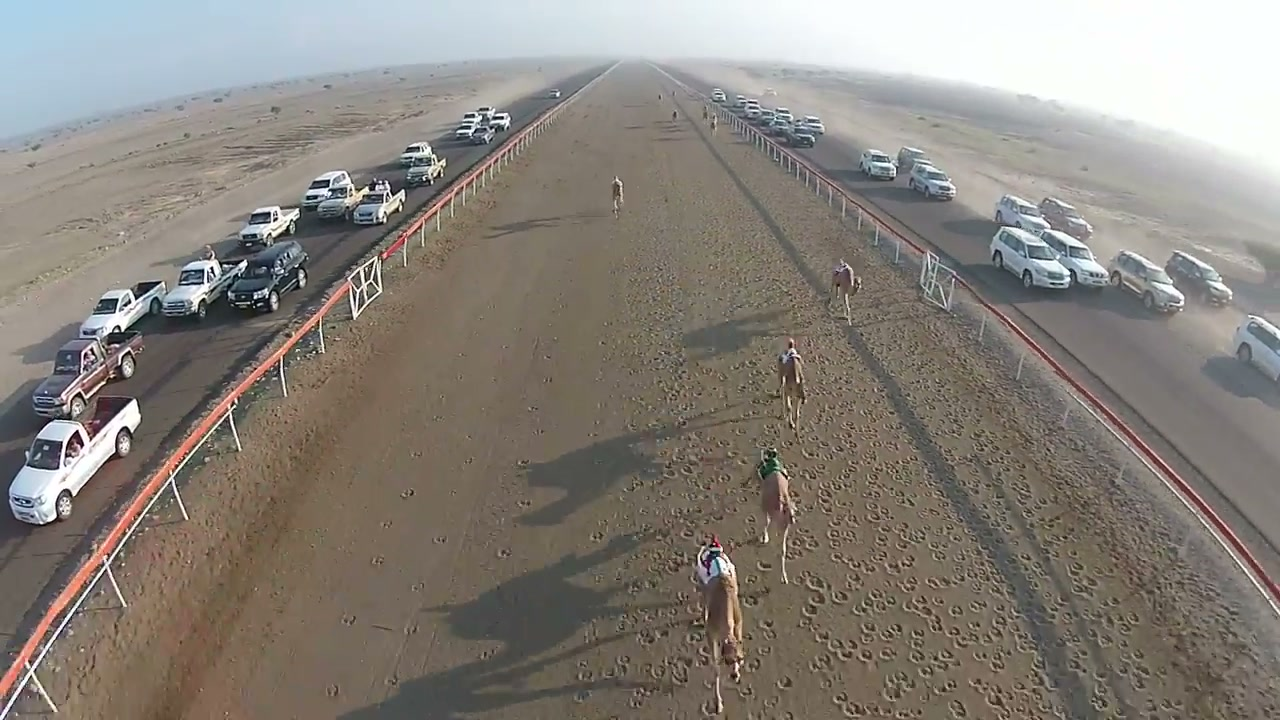animal_foot_print: (799, 313, 1188, 719)
